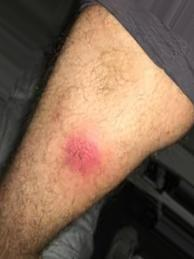Spider: (57, 130, 108, 180)
